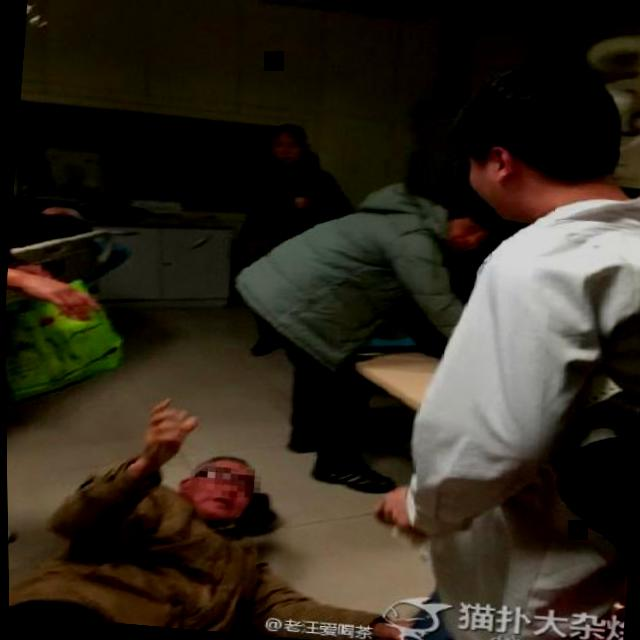Fall-Detected: (4, 378, 453, 640)
